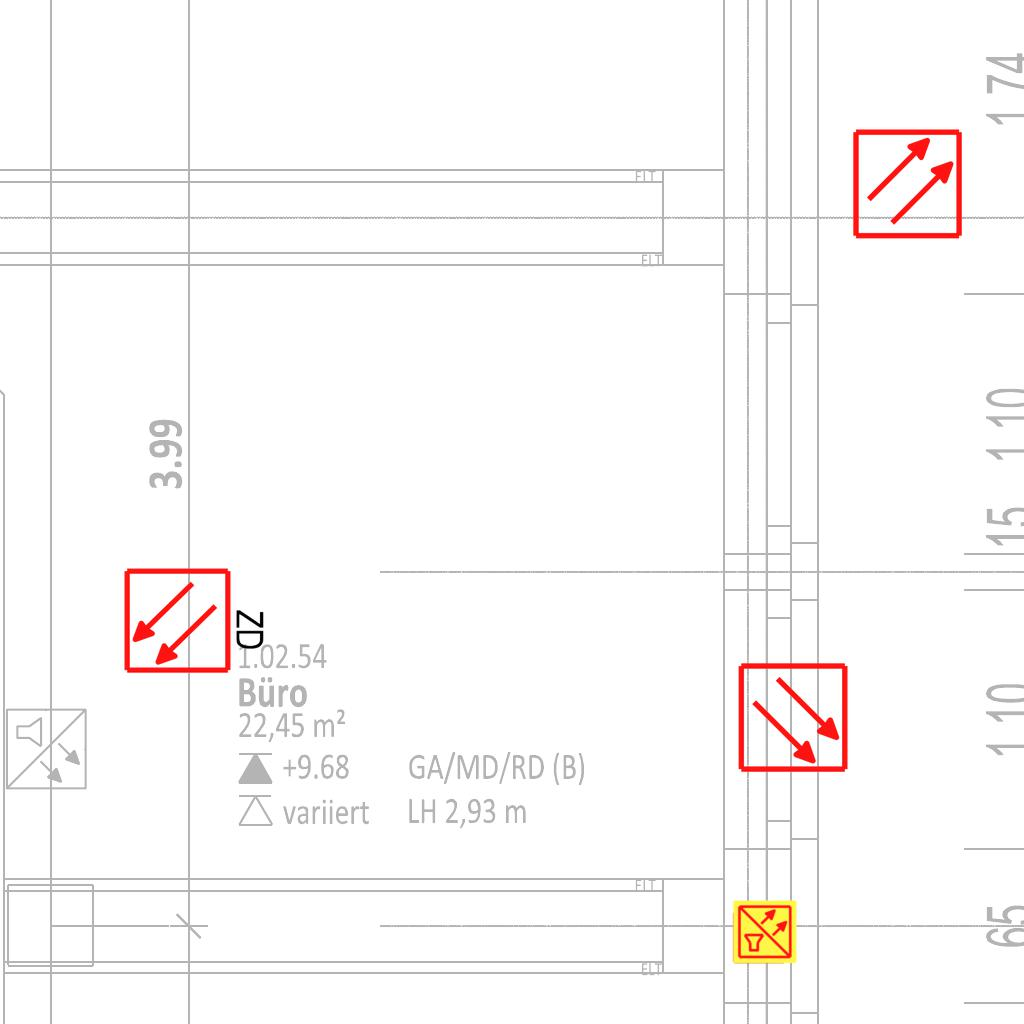OKW_Multisensormelder_(Kombination_optischer_Rauch-Kahlenmonoxid_Waerme-Melder): (732, 899, 798, 965)
RMO_Rauchmelder_optischer: (851, 127, 964, 240), (737, 661, 850, 774)
ZD_Melder_in_Zwischendecke_mit_Revisionsoeffnung_mind_40_x_40_cm: (122, 562, 271, 676)
